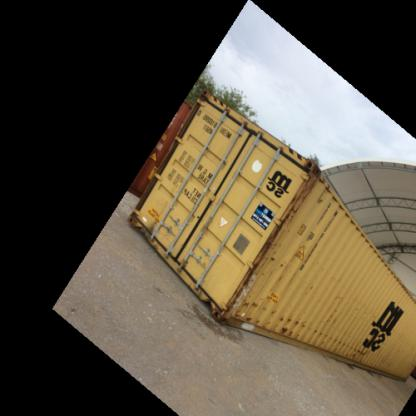Damage: (264, 158, 313, 253), (221, 251, 268, 316), (304, 324, 365, 354), (248, 300, 305, 322), (127, 207, 153, 254)
